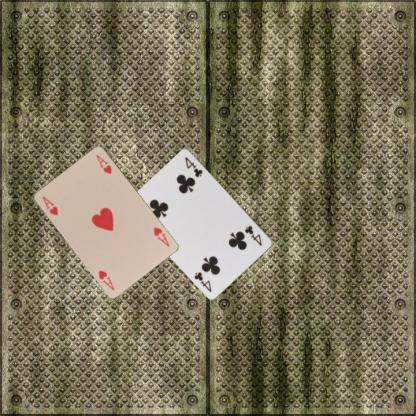4c: (242, 223, 264, 247)
Ah: (150, 224, 171, 248), (39, 194, 59, 216)
